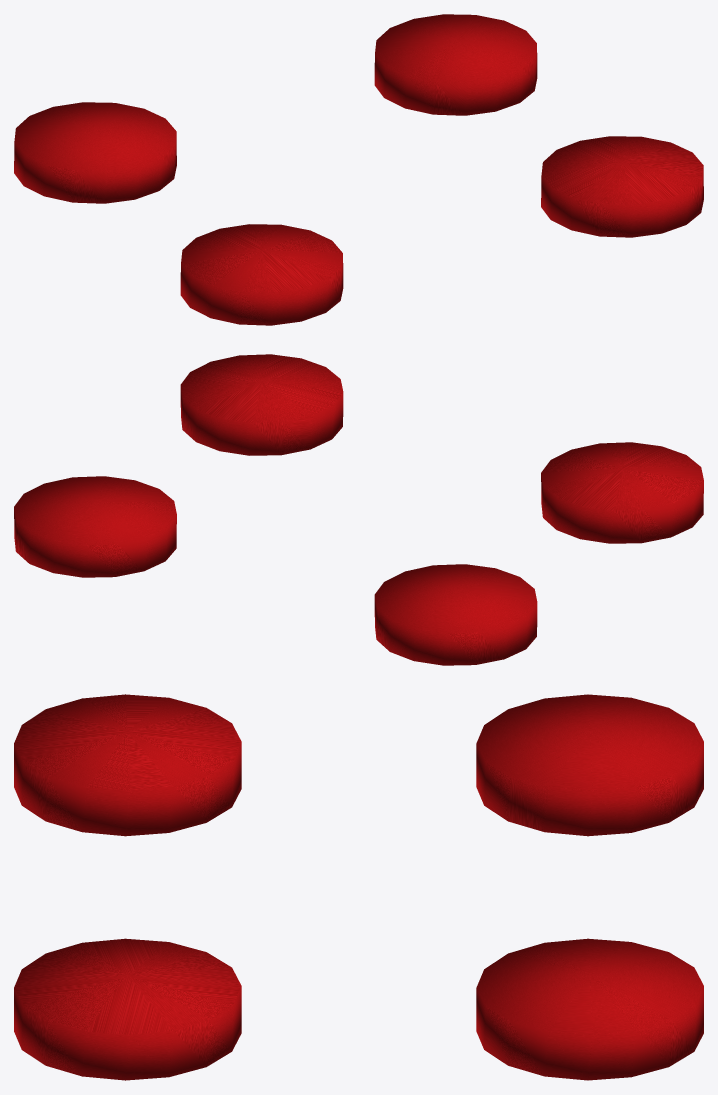
The picture shows the model from 3 angles, top to bottom: view 1: azimuth 30°, elevation 25°; view 2: azimuth 150°, elevation 25°; view 3: azimuth 270°, elevation 25°; orthographic projection. The views are drawn at different scales.
Parts seen in each view (by area): view 1: geometry_0; view 2: geometry_0; view 3: geometry_0.
Boxes of the visible parts, x1,y1,x2,y2 form: geometry_0: (14,14,703,325); geometry_0: (14,354,703,665); geometry_0: (14,694,703,1080).
Size of the model in its own units: 0.9 by 0.0836 by 0.7709.
Materials: 1 (1 with a texture image).
